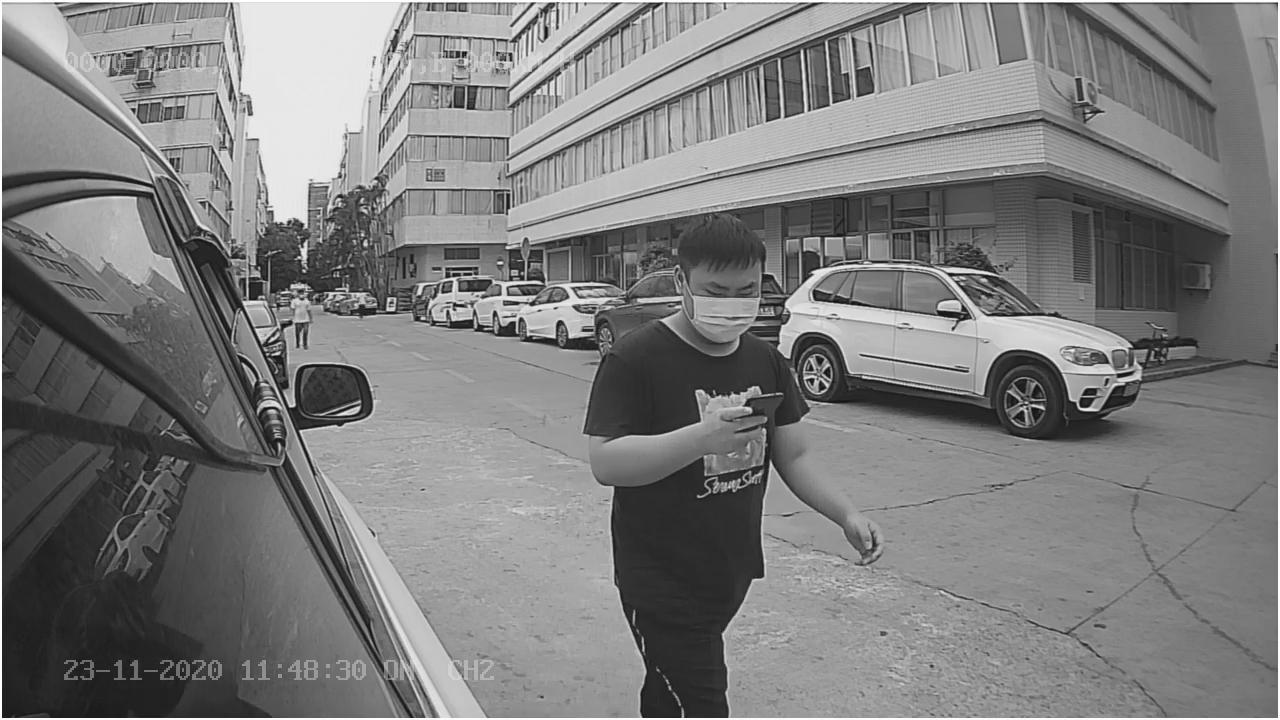person: (584, 213, 884, 587)
